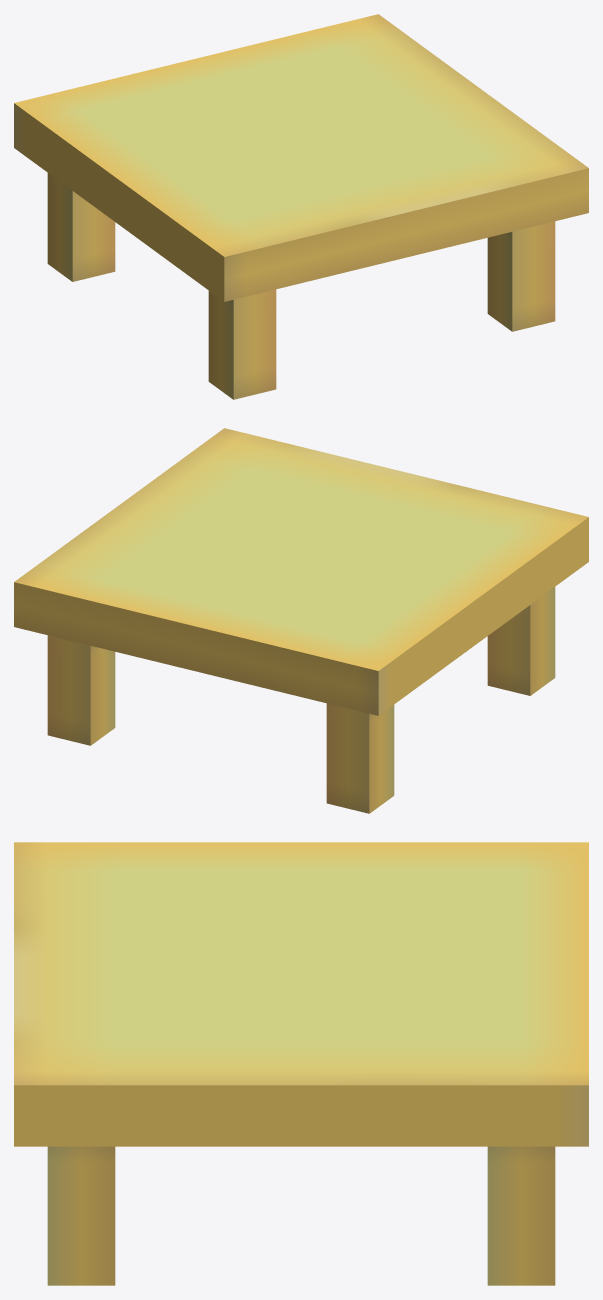
Rendered from KiddieTableYellow_00.obj.
3 views of the same model, one above another, from view 1: azimuth 30°, elevation 25°; view 2: azimuth 150°, elevation 25°; view 3: azimuth 270°, elevation 25° (orthographic). The views are drawn at different scales.
Parts seen in each view (by area): view 1: KiddieTableYellow_00; view 2: KiddieTableYellow_00; view 3: KiddieTableYellow_00.
Boxes of the visible parts, x1=… form: KiddieTableYellow_00: x1=14, y1=14, x2=588, y2=399; KiddieTableYellow_00: x1=14, y1=428, x2=588, y2=813; KiddieTableYellow_00: x1=14, y1=842, x2=588, y2=1285.
Bounding box in the file's own units: 0.85 × 0.35 × 0.85.
